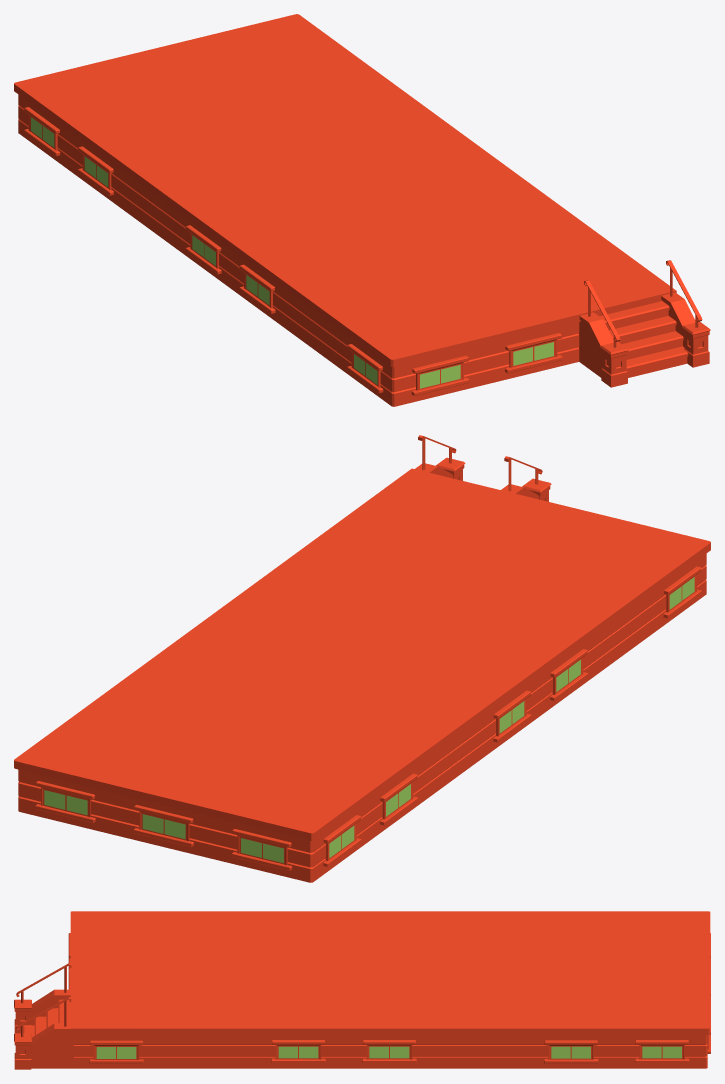
Rendered from SM_Squarehouse_Bottom_Small_B_AS_City.fbx.
3 views of the same model, one above another, from view 1: azimuth 30°, elevation 25°; view 2: azimuth 150°, elevation 25°; view 3: azimuth 270°, elevation 25° (orthographic). The views are drawn at different scales.
Visible parts, largest first — view 1: SM_Squarehouse_Bottom_Small_B_AS_City; view 2: SM_Squarehouse_Bottom_Small_B_AS_City; view 3: SM_Squarehouse_Bottom_Small_B_AS_City.
Part boxes in pixels (box(x1,y1,x2,y2)): SM_Squarehouse_Bottom_Small_B_AS_City: box(14, 14, 710, 406); SM_Squarehouse_Bottom_Small_B_AS_City: box(14, 435, 710, 882); SM_Squarehouse_Bottom_Small_B_AS_City: box(14, 911, 710, 1069).
Size of the model in its own units: 6.19 by 1.67 by 15.33.
